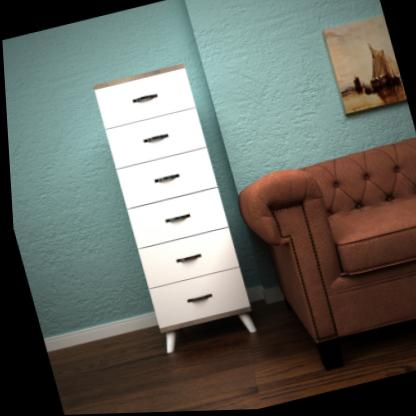Nightstand: (88, 60, 257, 360)
Wooden floor: (43, 303, 416, 415)
